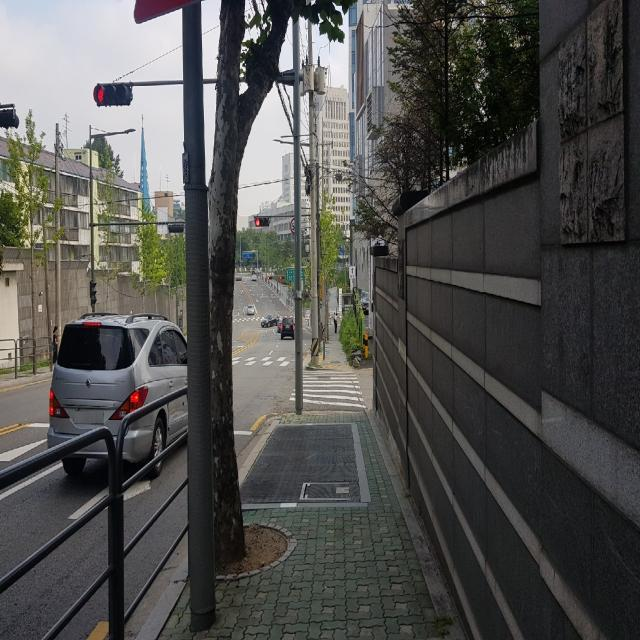횡단보도: (288, 371, 366, 409), (233, 355, 290, 364)
